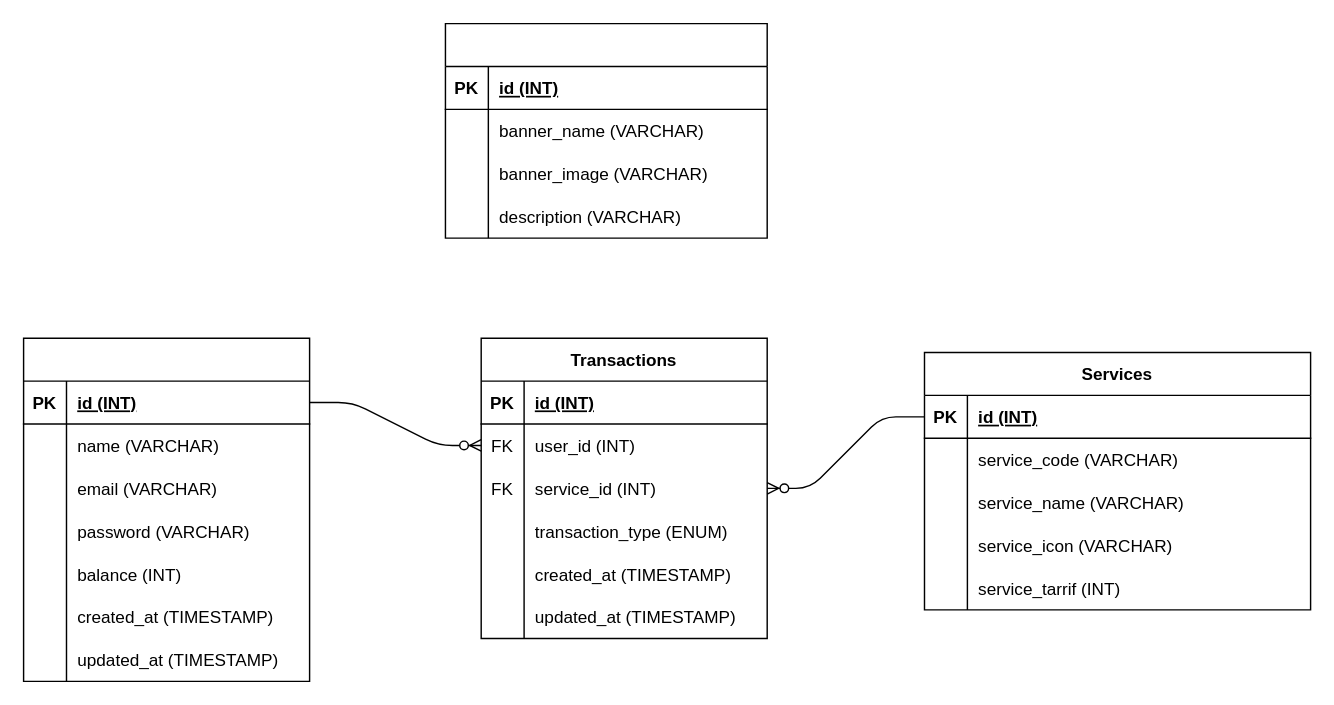
This 1334x705 diagram has some shape labels left out. The box of each missing label's shape, as (x1, y1, x2, y2) in pixels:
Banners: (444, 22, 767, 238)
Users: (22, 337, 310, 681)
